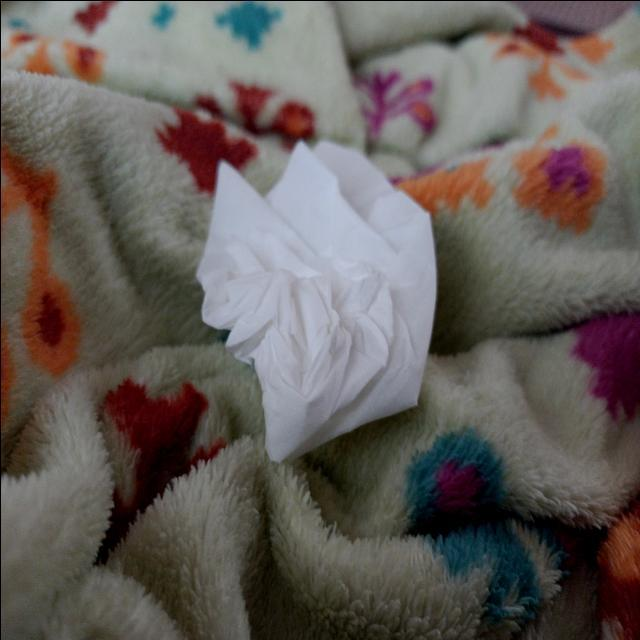Paper: (202, 134, 442, 475), (236, 329, 251, 368)
